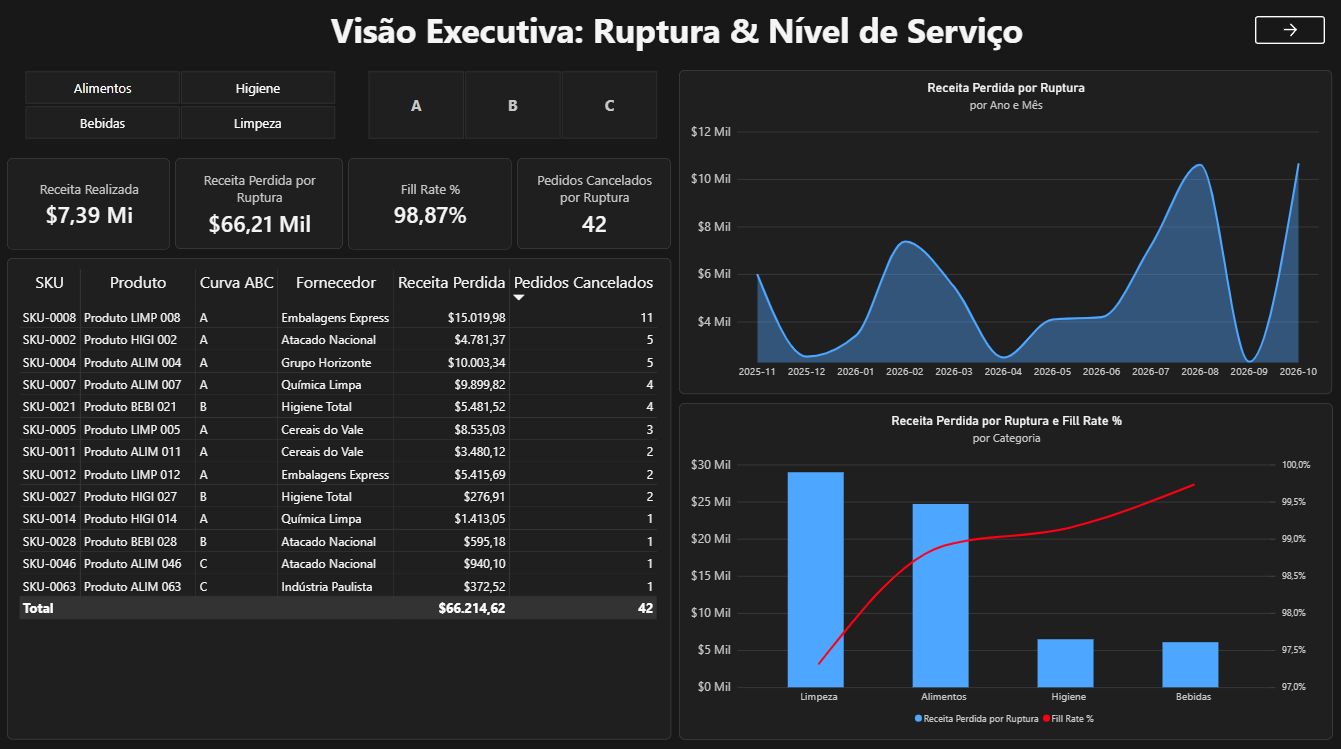

What the dashboard file says about the page in this screenshot:
{"tool":"powerbi","page":{"name":"Visão Executiva: Ruptura & Nível de Serviço","canvas":[1920,1080],"ordinal":0},"visuals":[{"type":"cardVisual","fields":{"Data":["_Medidas.Receita Realizada"]},"box":[12.2,13.6,481.7,130.6],"z":0},{"type":"cardVisual","fields":{"Data":["_Medidas.Receita Perdida Ruptura"]},"box":[504.8,13.6,455.8,130.6],"z":1000},{"type":"cardVisual","fields":{"Data":["_Medidas.Fill Rate %"]},"box":[970.2,13.6,487.1,130.6],"z":2000},{"type":"cardVisual","fields":{"Data":["_Medidas.Pedidos Cancelados Ruptura"]},"box":[1466.9,13.6,438.2,130.6],"z":3000},{"type":"lineClusteredColumnComboChart","fields":{"Category":["dProdutos.categoria"],"Y":["_Medidas.Receita Perdida Ruptura","_Medidas.Fill Rate %"]},"box":[971.6,612.3,933.5,449],"z":3001},{"type":"lineChart","fields":{"Category":["dCalendario.Ano-Mês"],"Y":["_Medidas.Receita Perdida Ruptura"]},"box":[971.6,153.8,933.5,449],"z":3002},{"type":"tableEx","fields":{"Values":["dProdutos.id_sku","dProdutos.nome_produto","dProdutos.curva_abc_esperada","dFornecedores.nome_fornecedor","_Medidas.Receita Perdida Ruptura","_Medidas.Pedidos Cancelados Ruptura"]},"box":[12.2,259.9,948.4,801.5],"z":3003},{"type":"slicer","fields":{"Values":["dProdutos.categoria"]},"box":[12.2,153.8,481.7,99.3],"z":3004},{"type":"slicer","fields":{"Values":["dProdutos.curva_abc_esperada"]},"box":[504.8,153.8,455.8,99.3],"z":3005}]}

Visuals, with their boxes in screenshot pixels (x1, y1, x2, y2), scaled from the page's 1920x1080 canvas onto the 1341x749 screenshot:
cardVisual - _Medidas.Receita Realizada: bbox(9, 9, 345, 100)
cardVisual - _Medidas.Receita Perdida Ruptura: bbox(353, 9, 671, 100)
cardVisual - _Medidas.Fill Rate %: bbox(678, 9, 1018, 100)
cardVisual - _Medidas.Pedidos Cancelados Ruptura: bbox(1025, 9, 1331, 100)
lineClusteredColumnComboChart - dProdutos.categoria x _Medidas.Receita Perdida Ruptura: bbox(679, 425, 1331, 736)
lineChart - dCalendario.Ano-Mês x _Medidas.Receita Perdida Ruptura: bbox(679, 107, 1331, 418)
tableEx - dProdutos.id_sku x dProdutos.nome_produto: bbox(9, 180, 671, 736)
slicer - dProdutos.categoria: bbox(9, 107, 345, 176)
slicer - dProdutos.curva_abc_esperada: bbox(353, 107, 671, 176)
